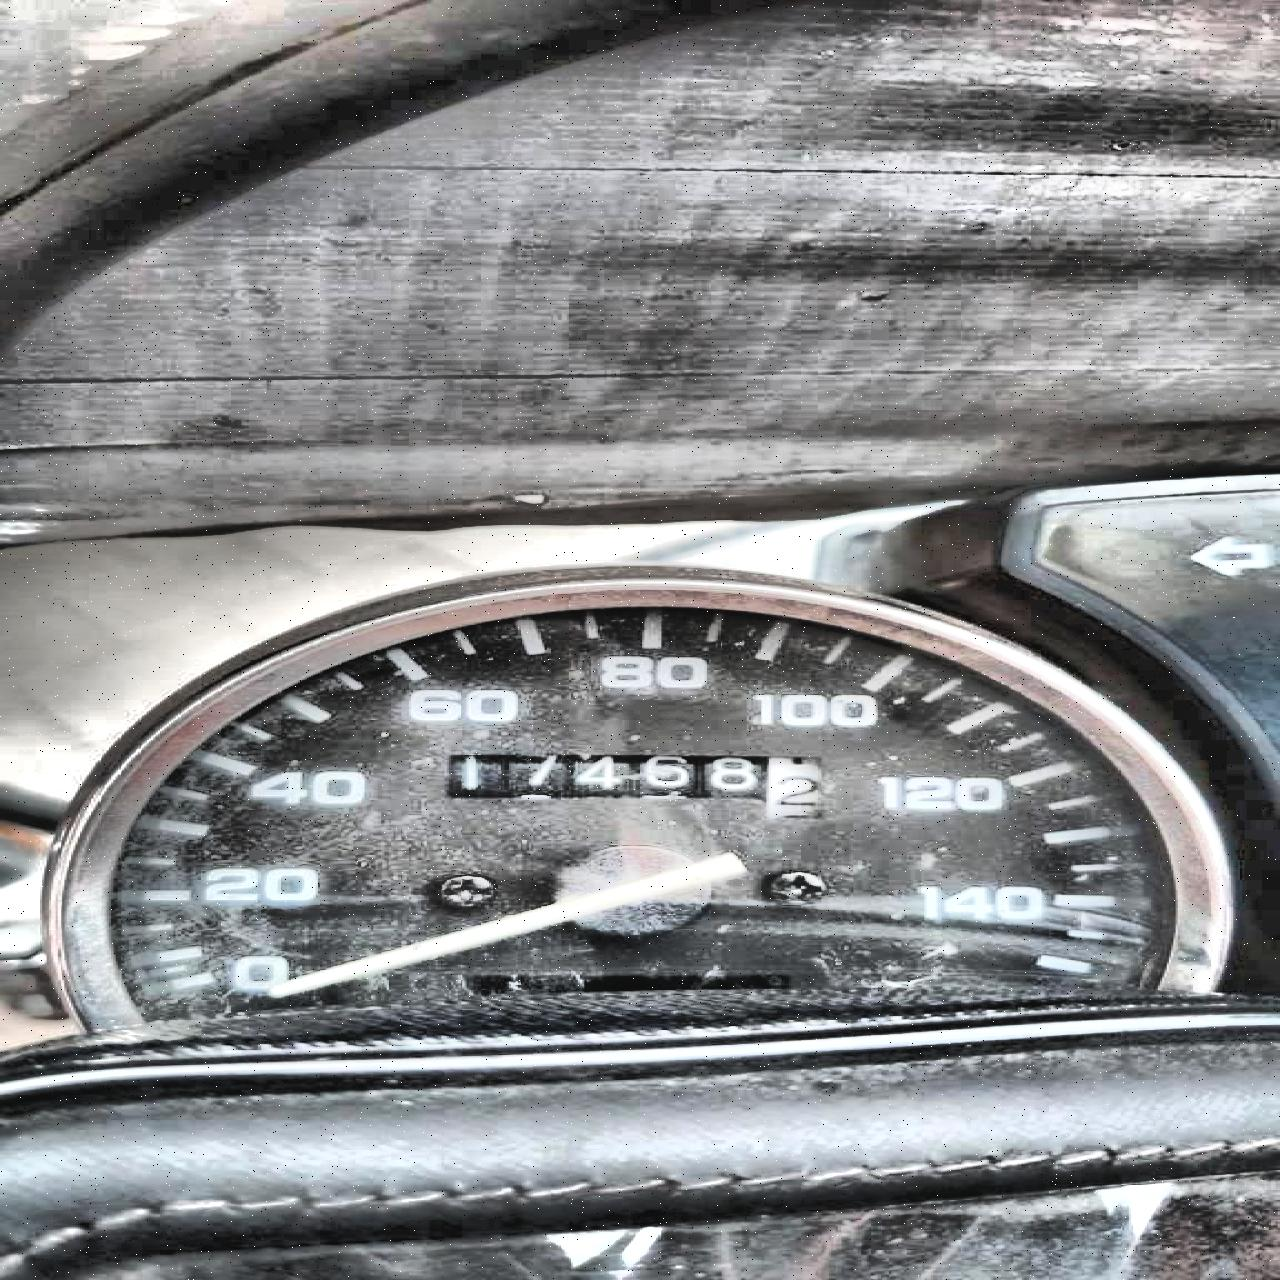1: (458, 751, 484, 797)
2: (771, 772, 825, 808)
4: (576, 755, 620, 791)
6: (642, 753, 694, 790)
7: (513, 748, 563, 788)
8: (704, 754, 757, 795)
odometer: (429, 744, 838, 826)
